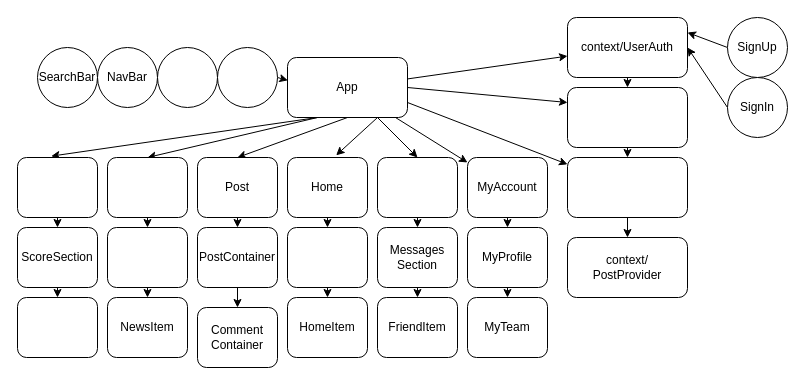
The diagram is 805 pixels wide and 385 high, and some of its shapes have lost their labels. The centre of each missing label's shape, as x and y in pixels:
"context/ MessageProvider" goes at point (627, 187).
"context/AppProvider" goes at point (627, 117).
"Footer" goes at point (247, 77).
"Header" goes at point (187, 77).
"HomeRow" goes at point (327, 257).
"Messages" goes at point (417, 187).
"News" goes at point (147, 187).
"NewSection" goes at point (147, 257).
"ScoreItem" goes at point (57, 327).
"Scores" goes at point (57, 187).
